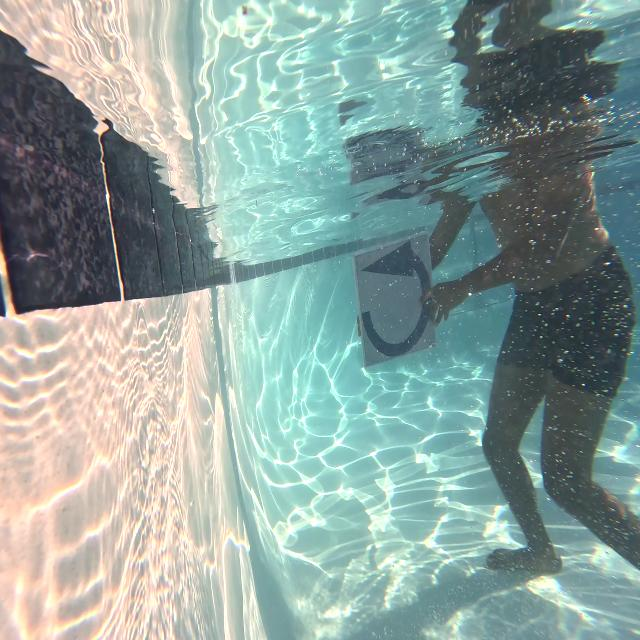blue_side: (359, 238, 435, 366)
